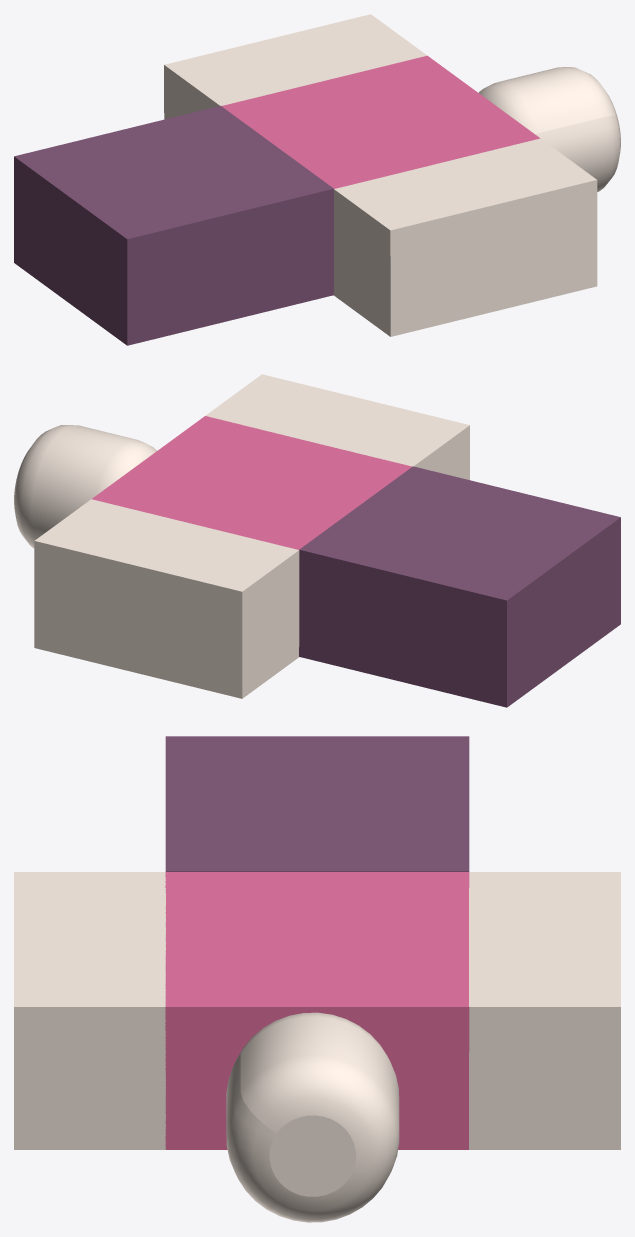
Rendered from player.glb.
3 renders of one model, top to bottom at view 1: azimuth 30°, elevation 25°; view 2: azimuth 150°, elevation 25°; view 3: azimuth 270°, elevation 25°, orthographic. The views are drawn at different scales.
Visible parts, largest first — view 1: Cube.003, Cube.002, Cube.001, Cube.004, Cube, Object_4; view 2: Cube, Cube.004, Cube.001, Cube.003, Cube.002, Object_4; view 3: Cube.001, Cube, Cube.002, Object_4, Cube.003, Cube.004.
Part boxes in pixels (box(x1,y1,x2,y2)): Cube.003: box(70, 147, 333, 345); Cube.002: box(334, 138, 597, 336); Cube.001: box(221, 55, 540, 188); Cube.004: box(14, 105, 276, 303); Cube: box(164, 14, 426, 119); Object_4: box(479, 67, 620, 191); Cube: box(34, 499, 299, 698); Cube.004: box(299, 508, 563, 707); Cube.001: box(91, 416, 411, 549); Cube.003: box(356, 466, 620, 665); Cube.002: box(205, 374, 469, 479); Object_4: box(14, 425, 156, 548); Cube.001: box(165, 872, 469, 1149); Cube: box(469, 872, 620, 1149); Cube.002: box(14, 872, 165, 1149); Object_4: box(226, 1012, 399, 1222); Cube.003: box(165, 736, 317, 871); Cube.004: box(317, 736, 469, 871).
Size of the model in its own units: 1.99 by 0.437 by 1.48.
